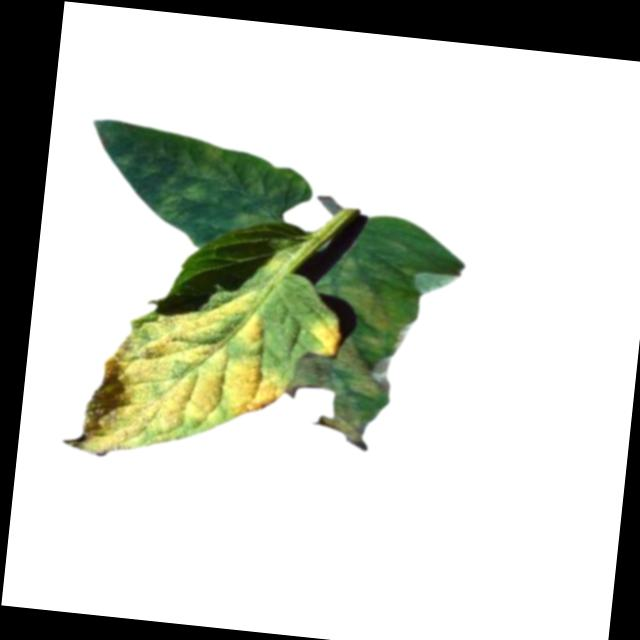Leaf_Mold: (79, 273, 291, 476), (278, 249, 419, 455), (83, 116, 300, 239)
